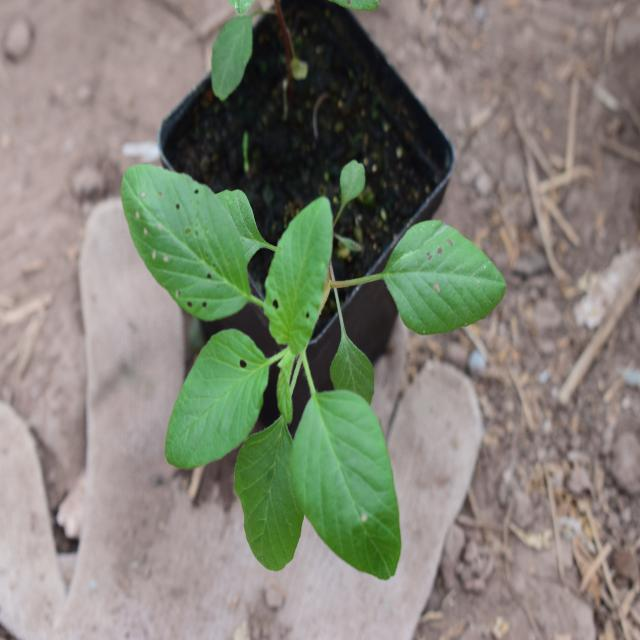pigweed: (103, 140, 463, 560)
